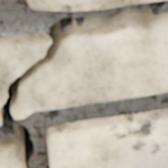brick: (47, 107, 167, 167), (26, 0, 157, 10), (0, 135, 26, 167)
broken_brick: (11, 12, 167, 118), (0, 32, 51, 107)
crack: (0, 0, 167, 167)
